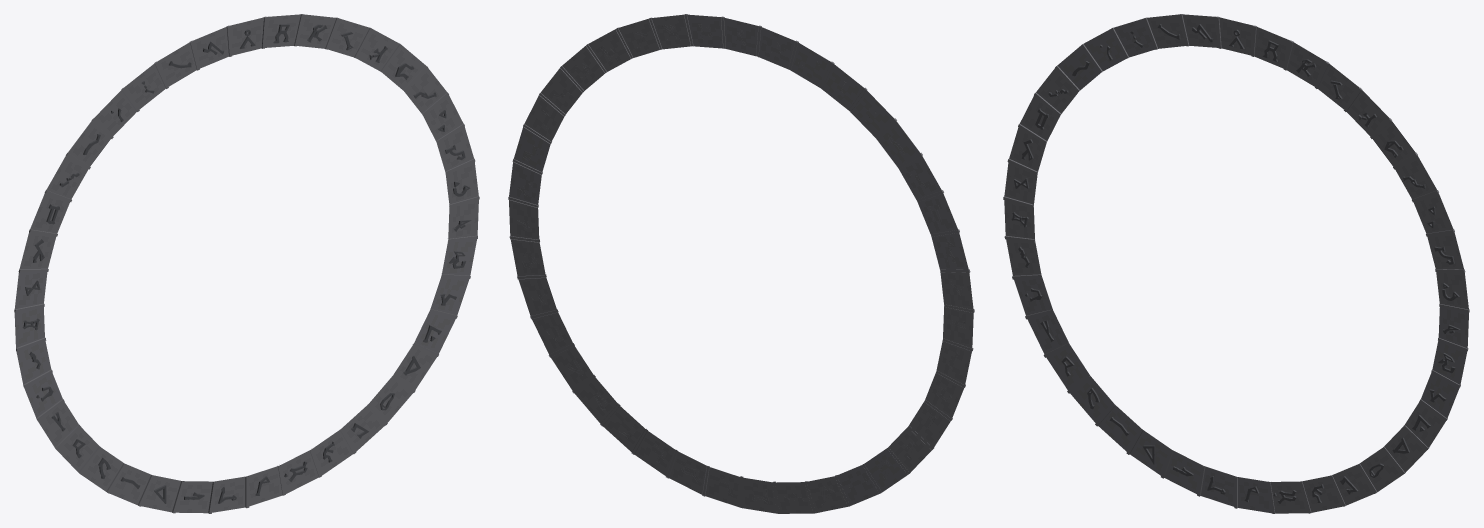
The model's file is MilkywayGlyphs.obj.
The picture shows the model from 3 angles, left to right: view 1: azimuth 30°, elevation 25°; view 2: azimuth 150°, elevation 25°; view 3: azimuth 330°, elevation 25°; orthographic projection.
Parts seen in each view (by area): view 1: GlyphsFrame, OriginalDividerMesh; view 2: GlyphsFrame, OriginalDividerMesh; view 3: GlyphsFrame, OriginalDividerMesh.
Boxes of the visible parts, bbox=[...] form: GlyphsFrame: bbox=[14, 14, 478, 513]; OriginalDividerMesh: bbox=[14, 14, 479, 513]; GlyphsFrame: bbox=[509, 14, 973, 513]; OriginalDividerMesh: bbox=[508, 14, 974, 513]; GlyphsFrame: bbox=[1004, 14, 1468, 513]; OriginalDividerMesh: bbox=[1003, 14, 1469, 513].
Size of the model in its own units: 6.31 by 6.3 by 0.0444.
2 materials, 2 textured.
